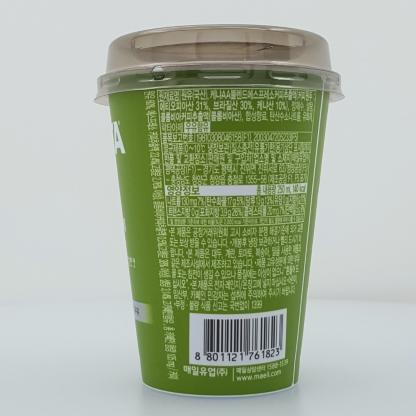-------------------: (93, 23, 346, 396)
